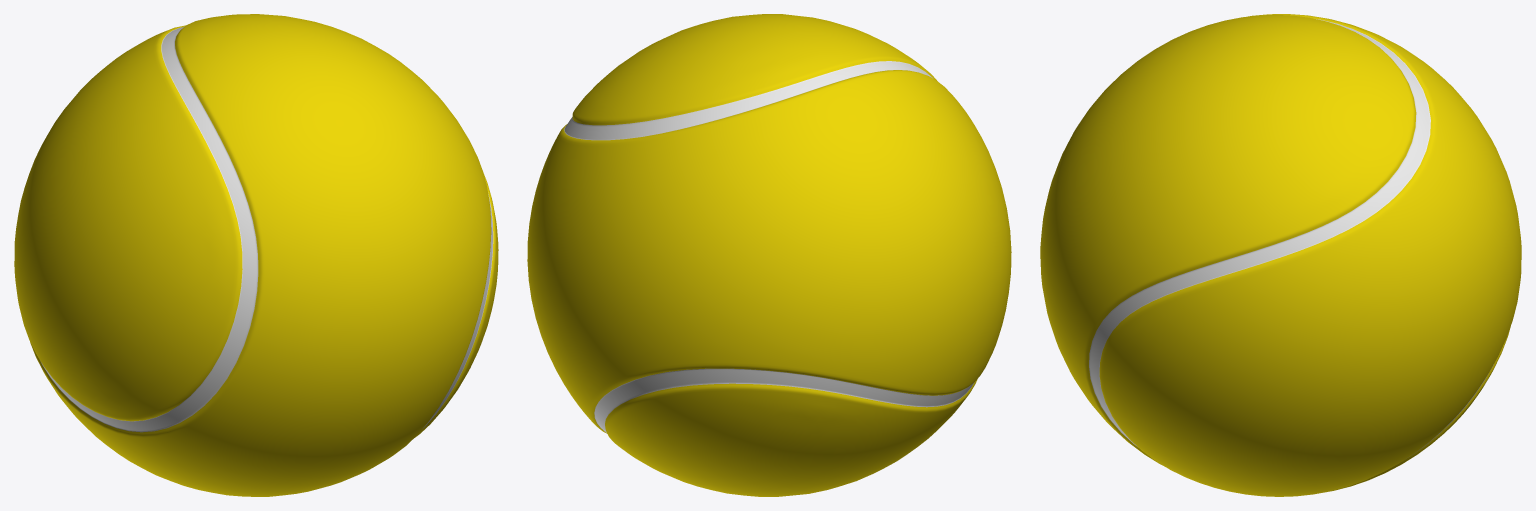
Rendered from Tennis.fbx.
The picture shows the model from 3 angles, left to right: view 1: azimuth 30°, elevation 25°; view 2: azimuth 150°, elevation 25°; view 3: azimuth 270°, elevation 25°; orthographic projection.
Visible parts, largest first — view 1: TennisBall; view 2: TennisBall; view 3: TennisBall.
Boxes of the visible parts, x1=… form: TennisBall: x1=14, y1=14, x2=498, y2=496; TennisBall: x1=527, y1=14, x2=1011, y2=496; TennisBall: x1=1040, y1=14, x2=1521, y2=496.
Size of the model in its own units: 83.6 by 83.64 by 83.68.
